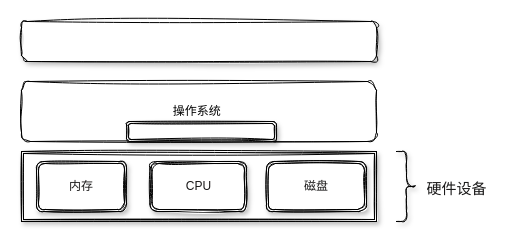
This 530x246 diagram has some shape labels left out. Here are the shapes that lost their labels. From the top down, the centre of each, then its label:
pixel 199 42: application 应用
pixel 202 132: Kernal
